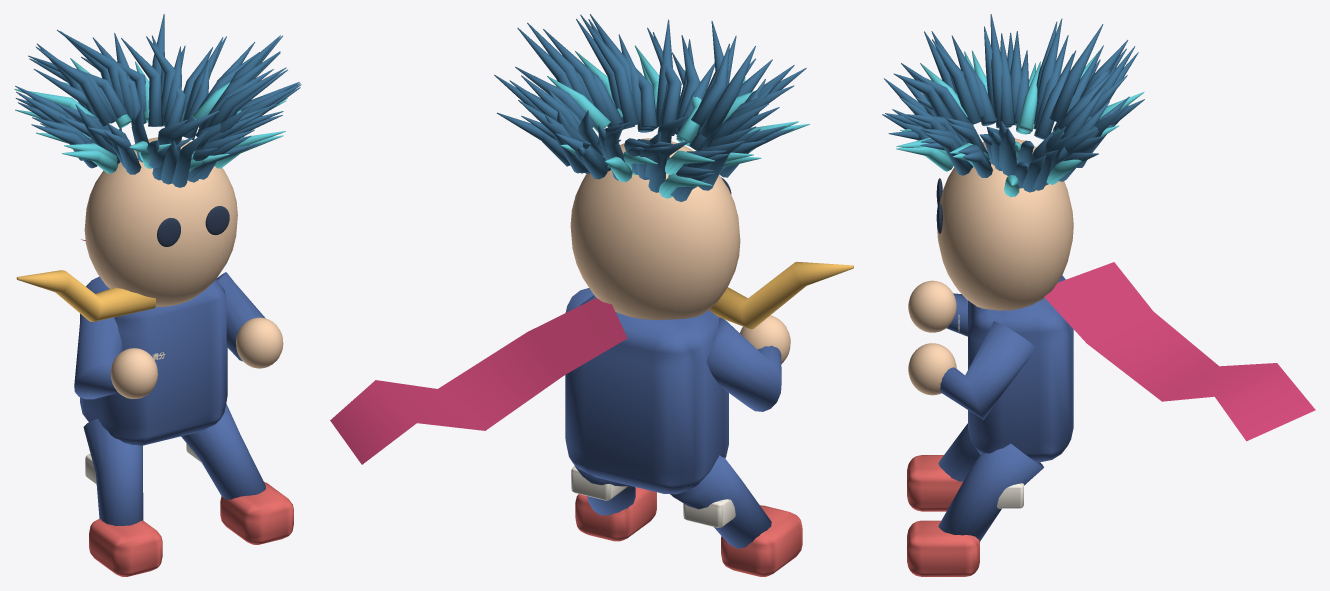
Rendered from P01_Gale_Hair_School_Hero.glb.
The picture shows the model from 3 angles, left to right: view 1: azimuth 30°, elevation 25°; view 2: azimuth 150°, elevation 25°; view 3: azimuth 270°, elevation 25°; orthographic projection. The views are drawn at different scales.
Visible parts, largest first — view 1: P01_HAIR_ACTOR | Wild sea-blue ultra-frizzy actual head hair, P01 large expressive exact human head, P01 rounded actual cartoon sports hero jacket, P01_LEGS_ACTOR | Superhero deep indigo uniform film matte, P01_LEGS_ACTOR | Bright brick red hero boots, P01_ARMS_ACTOR | Superhero deep indigo uniform film matte, P01_ARMS_ACTOR | Cheery peach comic face soft skin, P01_HAIR_ACTOR | Electric turquoise tiny flyaway hair accent, P01 caught yellow neck scarf curling in real wind, P01_HEAD_ACTOR | Expressive deep navy glass pupil; view 2: P01_HAIR_ACTOR | Wild sea-blue ultra-frizzy actual head hair, P01 rounded actual cartoon sports hero jacket, P01 large expressive exact human head, P01 actual wind swept fabric cape with scalloped border, P01_LEGS_ACTOR | Bright brick red hero boots, P01_ARMS_ACTOR | Superhero deep indigo uniform film matte, P01_HAIR_ACTOR | Electric turquoise tiny flyaway hair accent, P01_LEGS_ACTOR | Superhero deep indigo uniform film matte, P01 caught yellow neck scarf curling in real wind, P01_LEGS_ACTOR | Sport sock white cotton piping, P01_ARMS_ACTOR | Cheery peach comic face soft skin; view 3: P01_HAIR_ACTOR | Wild sea-blue ultra-frizzy actual head hair, P01 actual wind swept fabric cape with scalloped border, P01 large expressive exact human head, P01 rounded actual cartoon sports hero jacket, P01_LEGS_ACTOR | Superhero deep indigo uniform film matte, P01_LEGS_ACTOR | Bright brick red hero boots, P01_ARMS_ACTOR | Superhero deep indigo uniform film matte, P01_ARMS_ACTOR | Cheery peach comic face soft skin, P01_HAIR_ACTOR | Electric turquoise tiny flyaway hair accent, P01_LEGS_ACTOR | Sport sock white cotton piping.
Part boxes in pixels (x1,y1,x2,y2): P01_HAIR_ACTOR | Wild sea-blue ultra-frizzy actual head hair: (15,14,301,187); P01 large expressive exact human head: (84,137,237,306); P01 rounded actual cartoon sports hero jacket: (80,276,227,445); P01_LEGS_ACTOR | Superhero deep indigo uniform film matte: (83,404,265,525); P01_LEGS_ACTOR | Bright brick red hero boots: (89,482,293,576); P01_ARMS_ACTOR | Superhero deep indigo uniform film matte: (74,272,265,399); P01_ARMS_ACTOR | Cheery peach comic face soft skin: (110,317,283,398); P01_HAIR_ACTOR | Electric turquoise tiny flyaway hair accent: (14,58,287,173); P01 caught yellow neck scarf curling in real wind: (16,270,155,321); P01_HEAD_ACTOR | Expressive deep navy glass pupil: (157,206,229,246); P01_HAIR_ACTOR | Wild sea-blue ultra-frizzy actual head hair: (494,14,806,201); P01 rounded actual cartoon sports hero jacket: (565,295,728,494); P01 large expressive exact human head: (570,138,740,319); P01 actual wind swept fabric cape with scalloped border: (330,298,627,464); P01_LEGS_ACTOR | Bright brick red hero boots: (575,487,802,576); P01_ARMS_ACTOR | Superhero deep indigo uniform film matte: (565,288,781,411); P01_HAIR_ACTOR | Electric turquoise tiny flyaway hair accent: (547,45,809,198); P01_LEGS_ACTOR | Superhero deep indigo uniform film matte: (574,455,771,548); P01 caught yellow neck scarf curling in real wind: (709,261,853,329); P01_LEGS_ACTOR | Sport sock white cotton piping: (571,466,735,527); P01_ARMS_ACTOR | Cheery peach comic face soft skin: (740,315,790,363); P01_HAIR_ACTOR | Wild sea-blue ultra-frizzy actual head hair: (882,14,1144,192); P01 actual wind swept fabric cape with scalloped border: (1044,262,1315,441); P01 large expressive exact human head: (937,138,1073,310); P01 rounded actual cartoon sports hero jacket: (968,275,1073,462); P01_LEGS_ACTOR | Superhero deep indigo uniform film matte: (938,423,1043,541); P01_LEGS_ACTOR | Bright brick red hero boots: (907,455,979,576); P01_ARMS_ACTOR | Superhero deep indigo uniform film matte: (940,293,1035,419); P01_ARMS_ACTOR | Cheery peach comic face soft skin: (908,280,956,395); P01_HAIR_ACTOR | Electric turquoise tiny flyaway hair accent: (896,50,1144,197); P01_LEGS_ACTOR | Sport sock white cotton piping: (997,483,1023,508).
Size of the model in its own units: 1.8 by 2.37 by 1.97.
